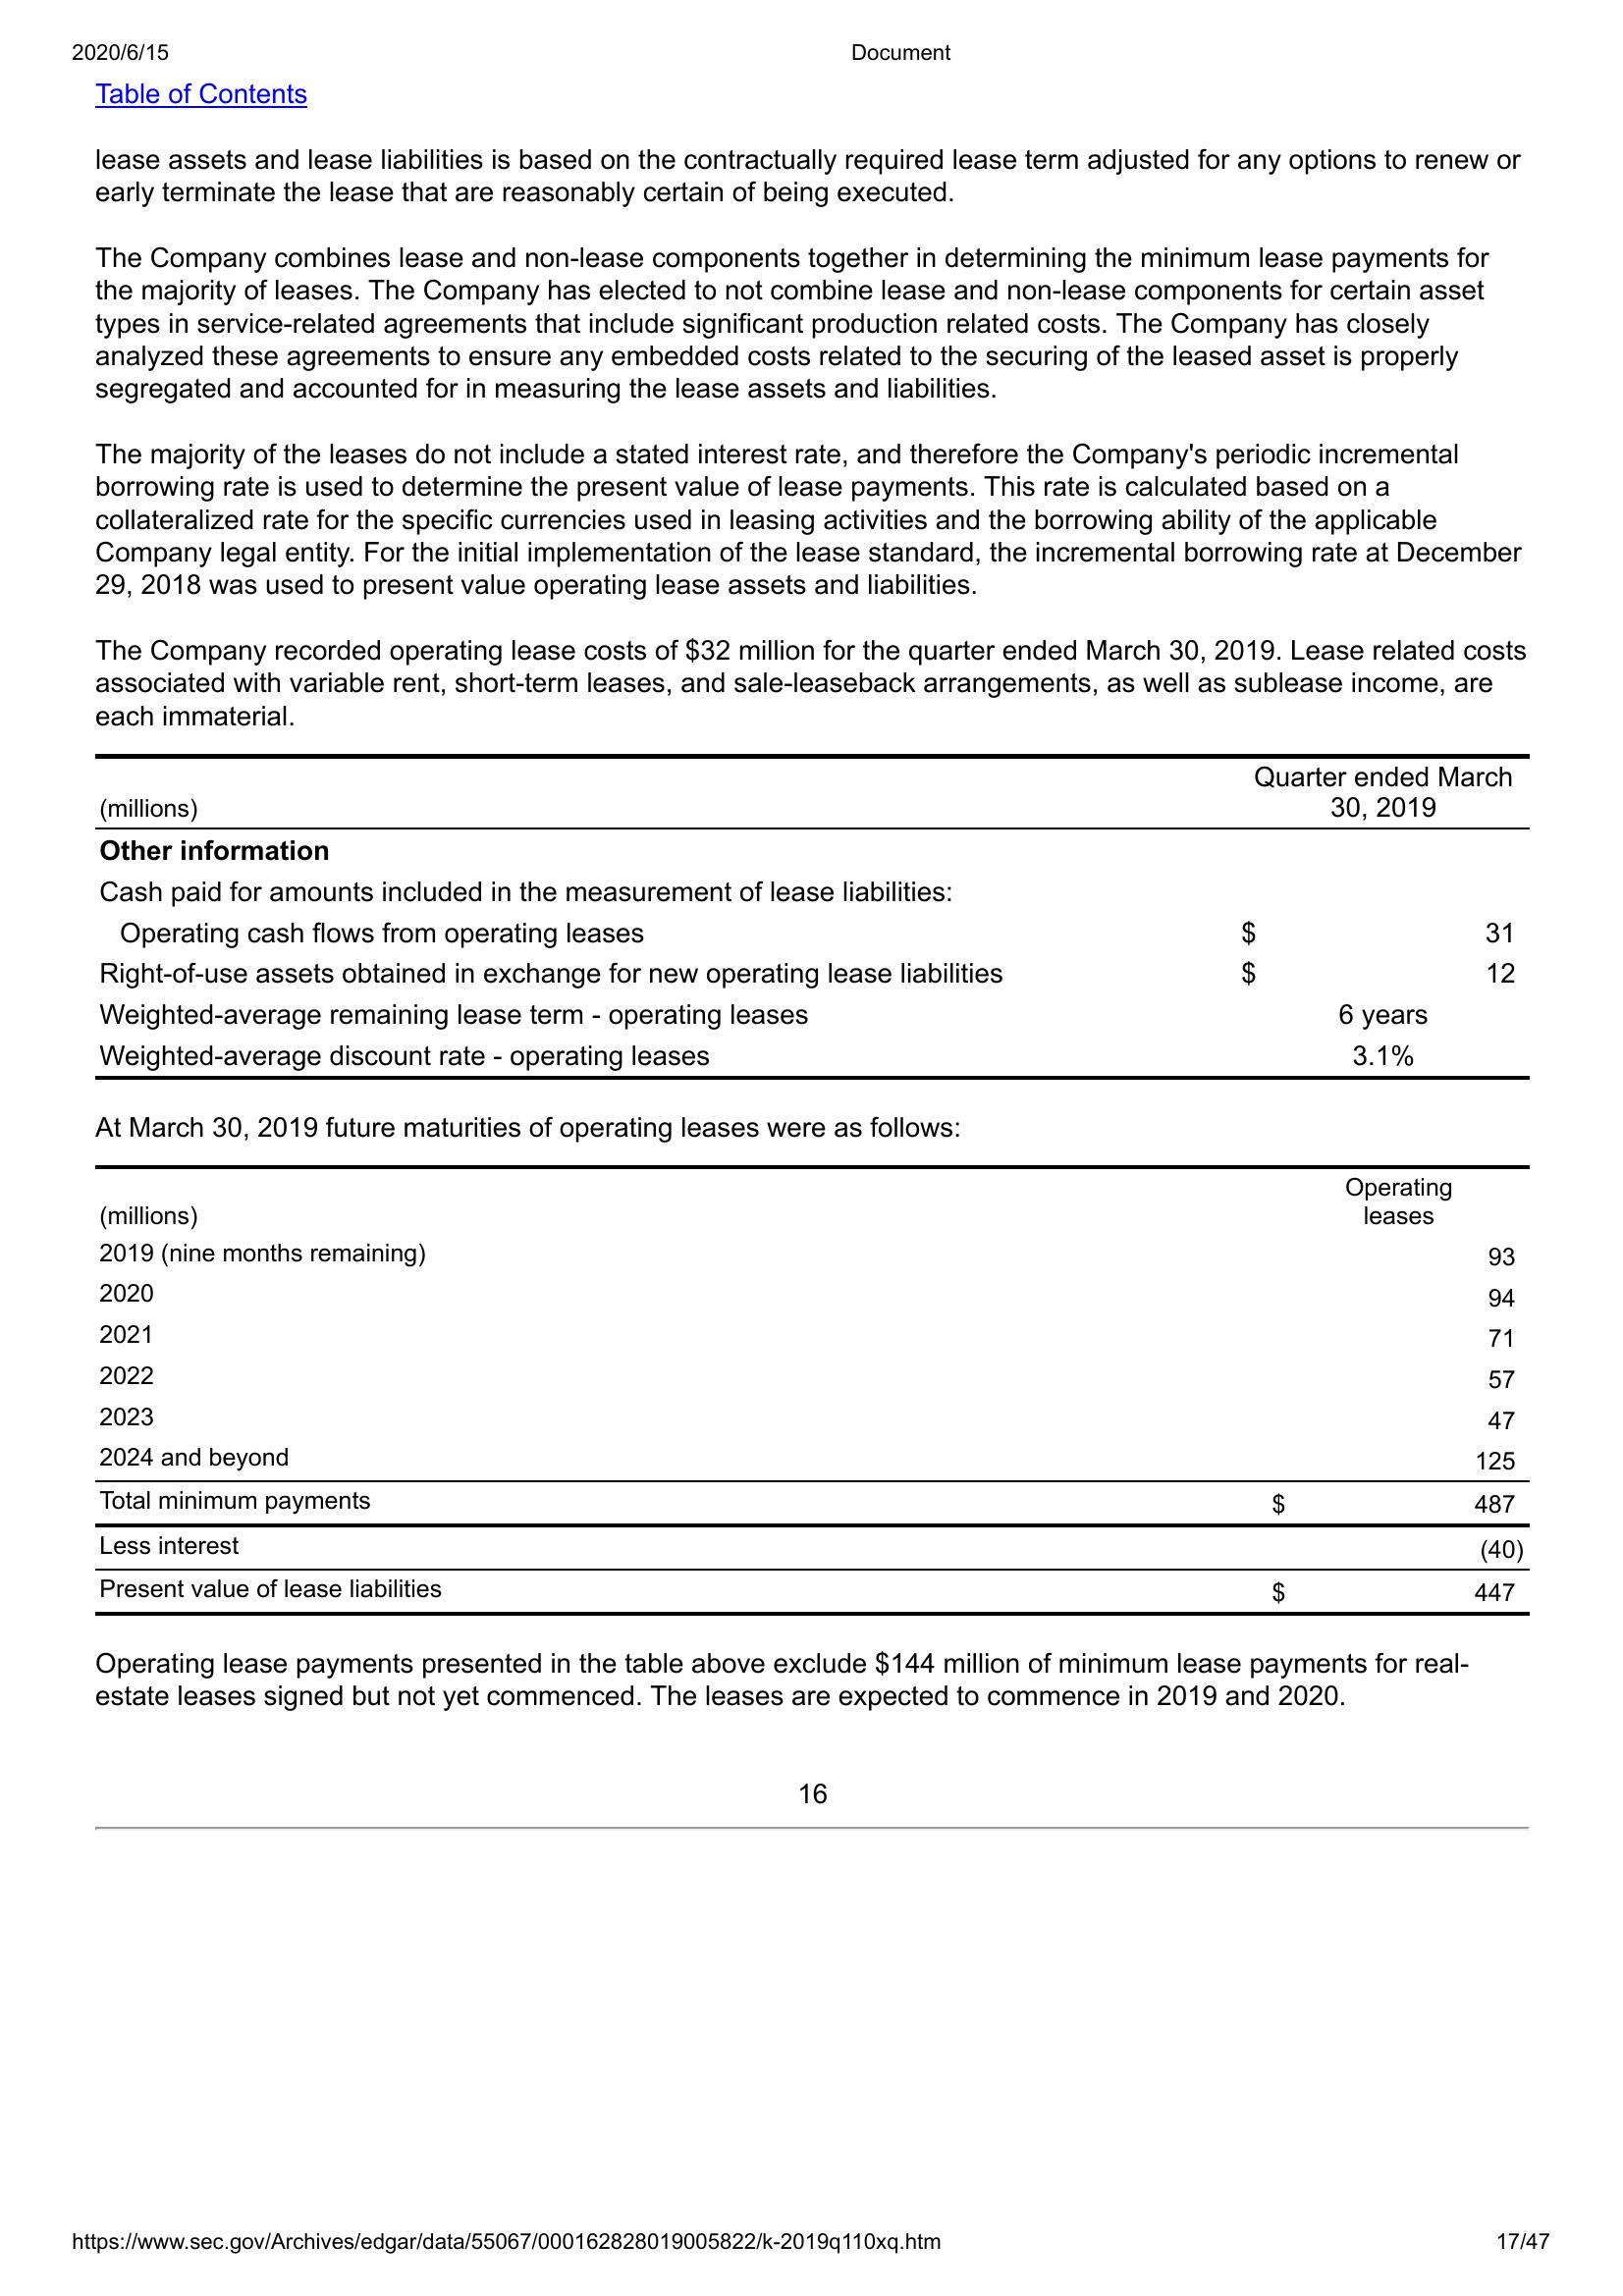table: (90, 744, 1539, 1622)
